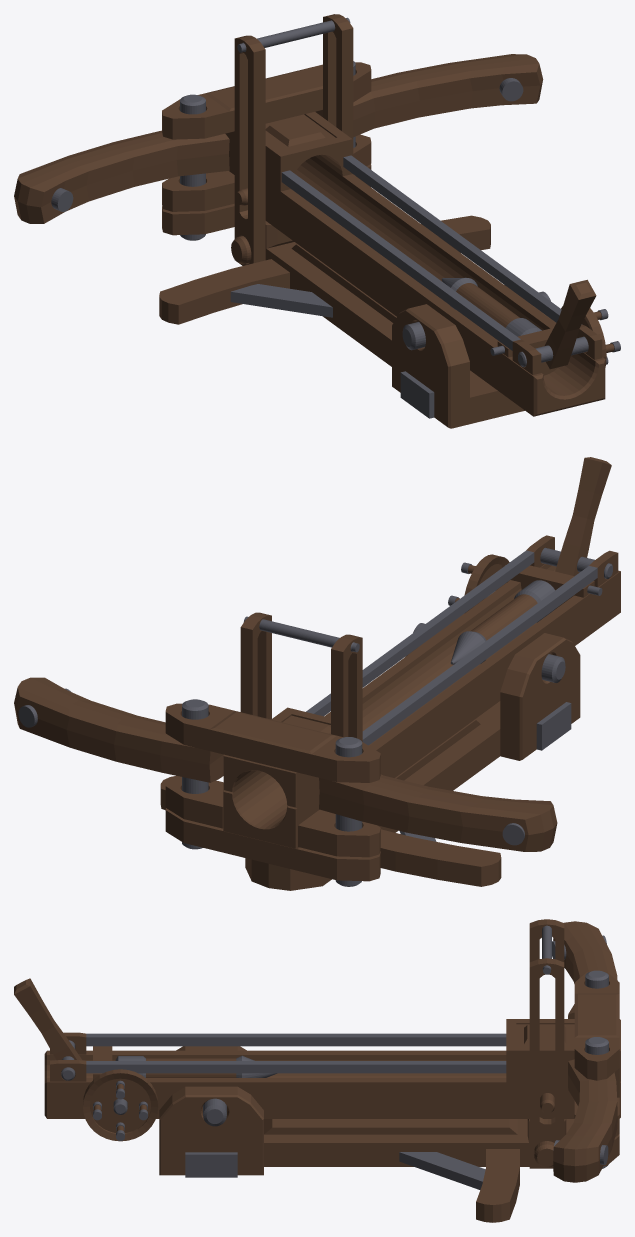
File: Ballista.fbx
3 renders of one model, top to bottom at view 1: azimuth 30°, elevation 25°; view 2: azimuth 150°, elevation 25°; view 3: azimuth 270°, elevation 25°, orthographic. The views are drawn at different scales.
Visible parts, largest first — view 1: Wood, Cube.004, Cube.007, Cube.005, Cube.003, Cube.006, Cylinder, Cylinder.003, Cylinder.001; view 2: Wood, Cube.004, Cube.005, Cube.003, Cube.007, Cube.006, Cylinder, Cylinder.003, Cylinder.001; view 3: Wood, Cube.004, Cube.007, Cube.003, Cylinder.001, Cube.005, Cube.006, Cylinder, Cylinder.002.
Boxes of the visible parts, x1=… form: Wood: x1=162, y1=61, x2=605, y2=416; Cube.004: x1=159, y1=215, x2=555, y2=428; Cube.007: x1=234, y1=14, x2=353, y2=265; Cube.005: x1=14, y1=130, x2=229, y2=223; Cube.003: x1=315, y1=54, x2=543, y2=137; Cube.006: x1=544, y1=279, x2=596, y2=369; Cylinder: x1=441, y1=277, x2=541, y2=336; Cylinder.003: x1=490, y1=328, x2=558, y2=375; Cylinder.001: x1=561, y1=306, x2=620, y2=367; Wood: x1=165, y1=535, x2=620, y2=886; Cube.004: x1=160, y1=613, x2=580, y2=890; Cube.005: x1=319, y1=774, x2=557, y2=851; Cube.003: x1=14, y1=677, x2=223, y2=782; Cube.007: x1=240, y1=612, x2=362, y2=741; Cube.006: x1=555, y1=457, x2=611, y2=576; Cylinder: x1=450, y1=580, x2=554, y2=664; Cylinder.003: x1=505, y1=565, x2=602, y2=609; Cylinder.001: x1=448, y1=554, x2=509, y2=612; Wood: x1=44, y1=970, x2=620, y2=1168; Cube.004: x1=159, y1=1046, x2=574, y2=1222; Cube.007: x1=529, y1=919, x2=564, y2=1168; Cube.003: x1=553, y1=1059, x2=617, y2=1182; Cylinder.001: x1=83, y1=1069, x2=158, y2=1141; Cube.005: x1=552, y1=921, x2=617, y2=1018; Cube.006: x1=14, y1=978, x2=82, y2=1060; Cylinder: x1=115, y1=1055, x2=277, y2=1077; Cylinder.002: x1=534, y1=1141, x2=554, y2=1167.
Bounding box in the file's own units: 1046 × 441 × 1160.
